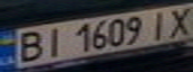0: (106, 16, 130, 47)
1: (69, 20, 93, 53)
6: (90, 18, 112, 51)
9: (121, 12, 151, 45)
B: (9, 28, 48, 63)
I: (36, 25, 69, 57), (142, 9, 175, 40)
X: (160, 4, 193, 37)
